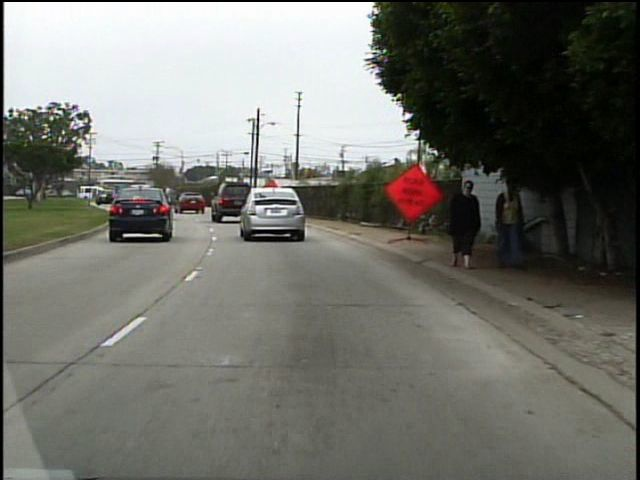person: (487, 169, 529, 277), (439, 175, 485, 272)
